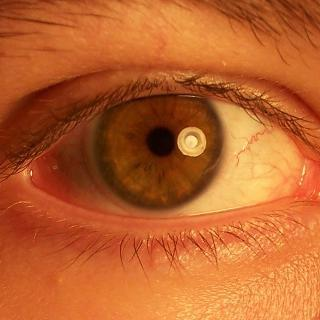pupil: (147, 127, 176, 156)
